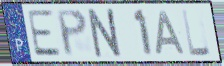1: (132, 8, 156, 57)
A: (154, 9, 187, 56)
E: (25, 9, 63, 58)
L: (180, 7, 213, 58)
N: (86, 6, 124, 59)
P: (55, 8, 89, 59)
